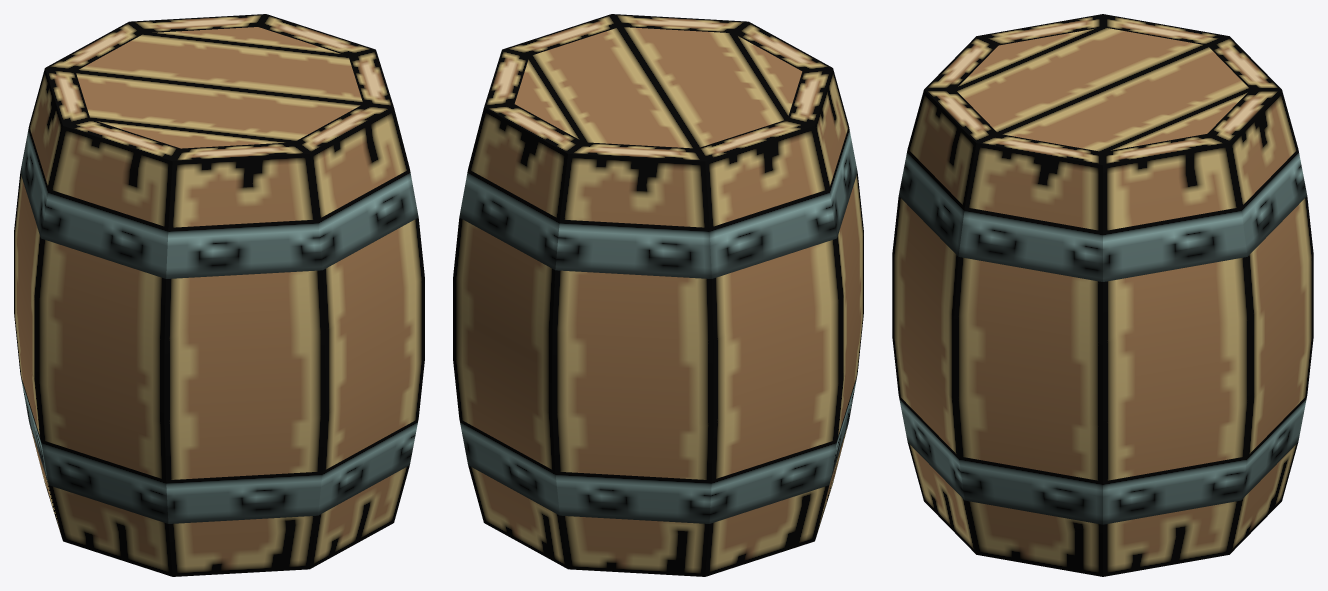
The model's file is deco_cathedral_barrel.FBX.
The picture shows the model from 3 angles, left to right: view 1: azimuth 30°, elevation 25°; view 2: azimuth 150°, elevation 25°; view 3: azimuth 270°, elevation 25°; orthographic projection.
Parts seen in each view (by area): view 1: deco_cathedral_barrel; view 2: deco_cathedral_barrel; view 3: deco_cathedral_barrel.
Boxes of the visible parts, x1,y1,x2,y2 form: deco_cathedral_barrel: (14,14,424,576); deco_cathedral_barrel: (453,14,863,576); deco_cathedral_barrel: (892,14,1313,576).
Bounding box in the file's own units: 1.39 × 1.5 × 1.39.
1 material, 1 textured.
